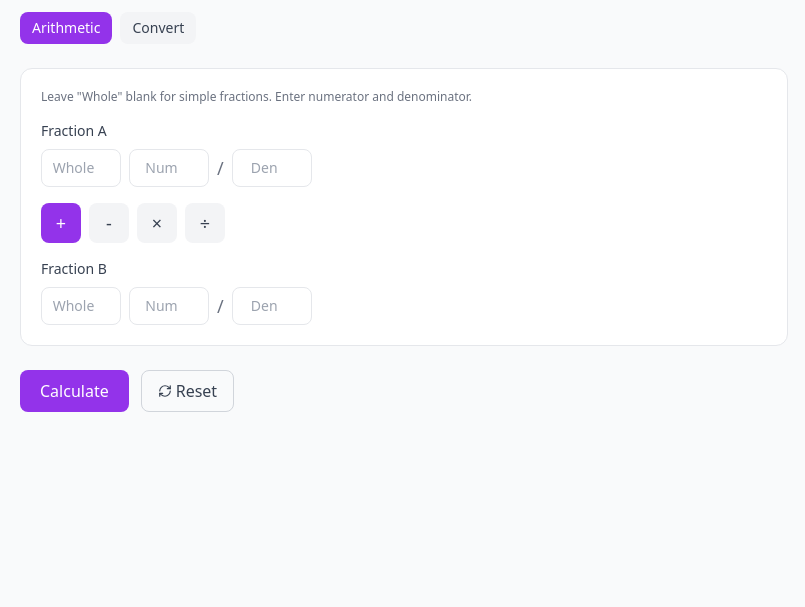
Scenario: FractionCalculator – functional › calculates fraction addition
This screenshot has width=805, height=607.
Step 1. Type "1" into the number field with placeholder "Whole" below "Fraction A" → (81, 168), box x1=41 y1=149 x2=121 y2=187
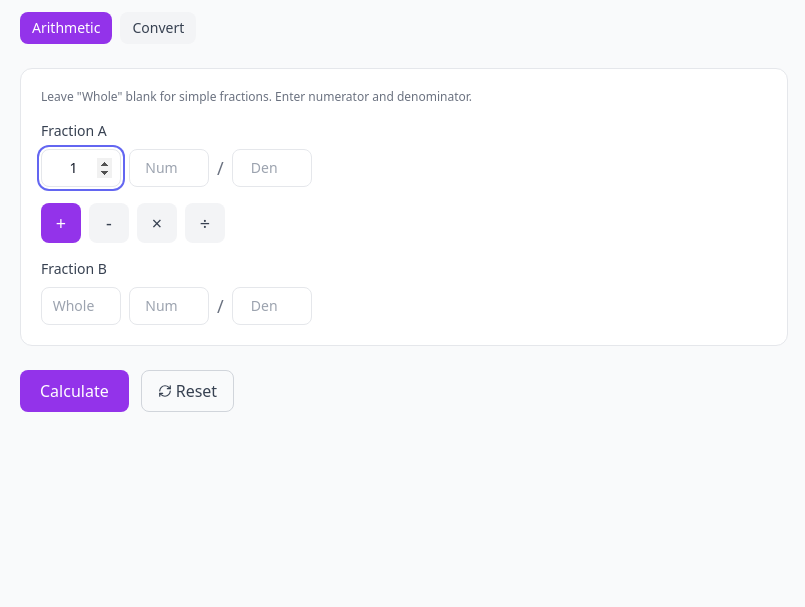
Step 2. Type "2" into the number field with placeholder "Num" below "Fraction A" → (169, 168), box x1=129 y1=149 x2=209 y2=187
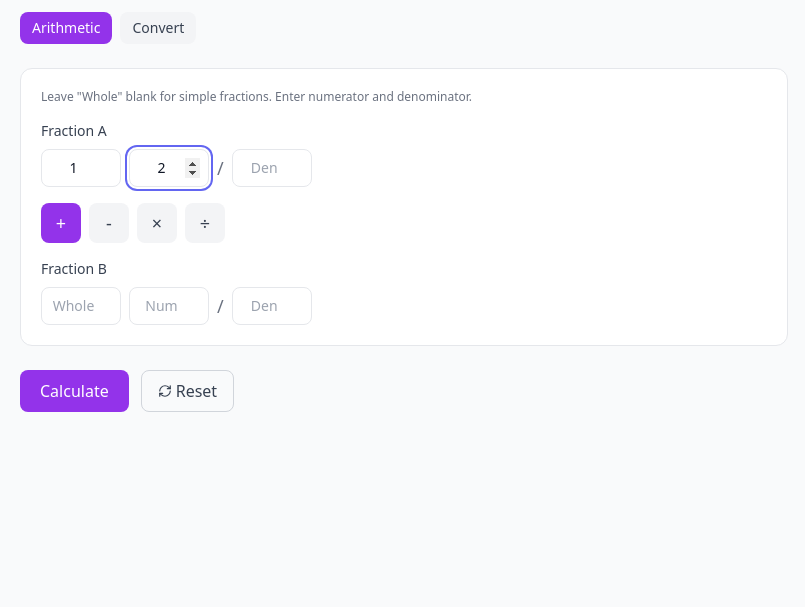
Step 3. Type "1" into the number field with placeholder "Den" below "Fraction A" → (272, 168), box x1=232 y1=149 x2=312 y2=187
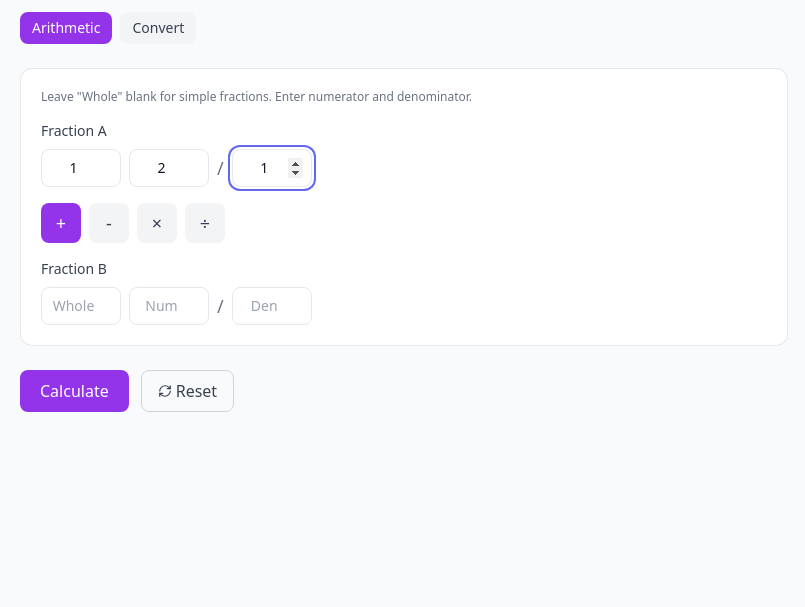
Step 4. Type "4" into the number field with placeholder "Whole" → (81, 306), box x1=41 y1=287 x2=121 y2=325
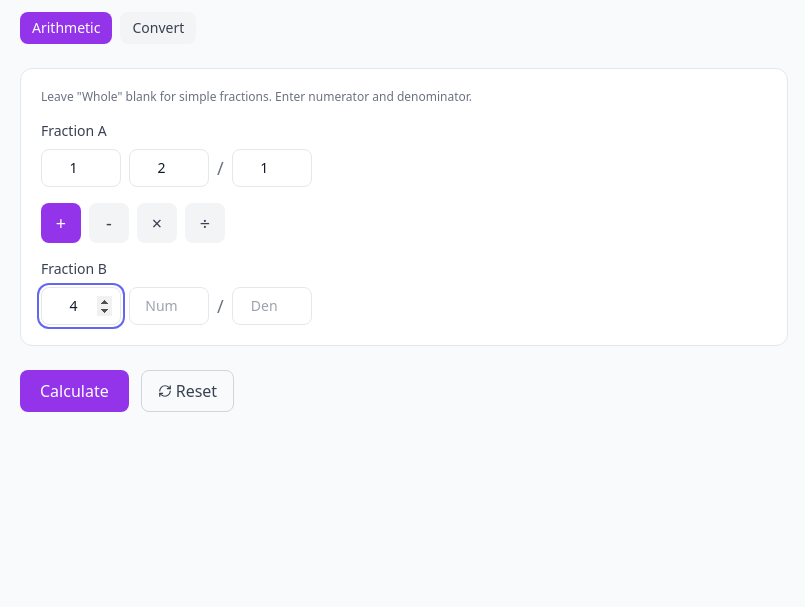
Step 5. Click the button "Calculate" → (74, 391), box x1=20 y1=370 x2=129 y2=412
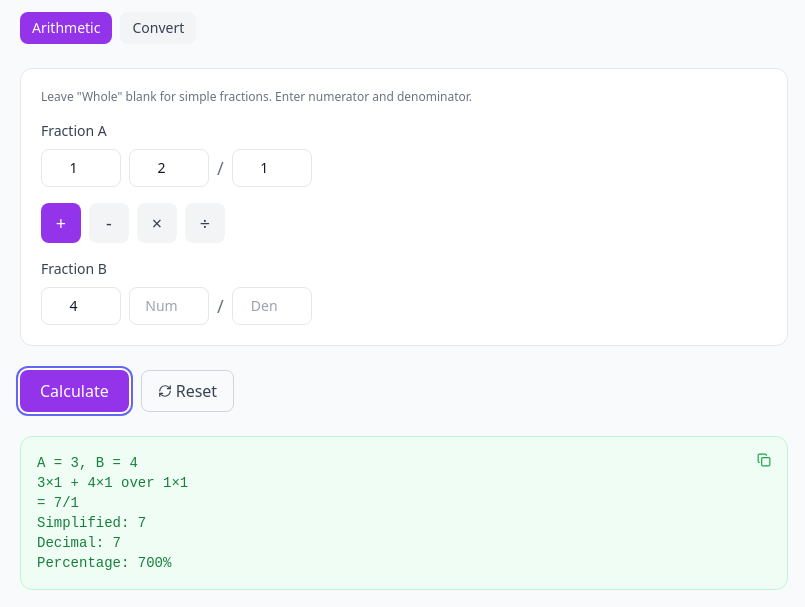
Expected: the text "A = 3, B = 4 3×1 + 4×1 over 1×1 = 7/1 Simplified: 7 Decimal: 7 Percentage: 700%" is shown, x1=37 y1=453 x2=188 y2=573
